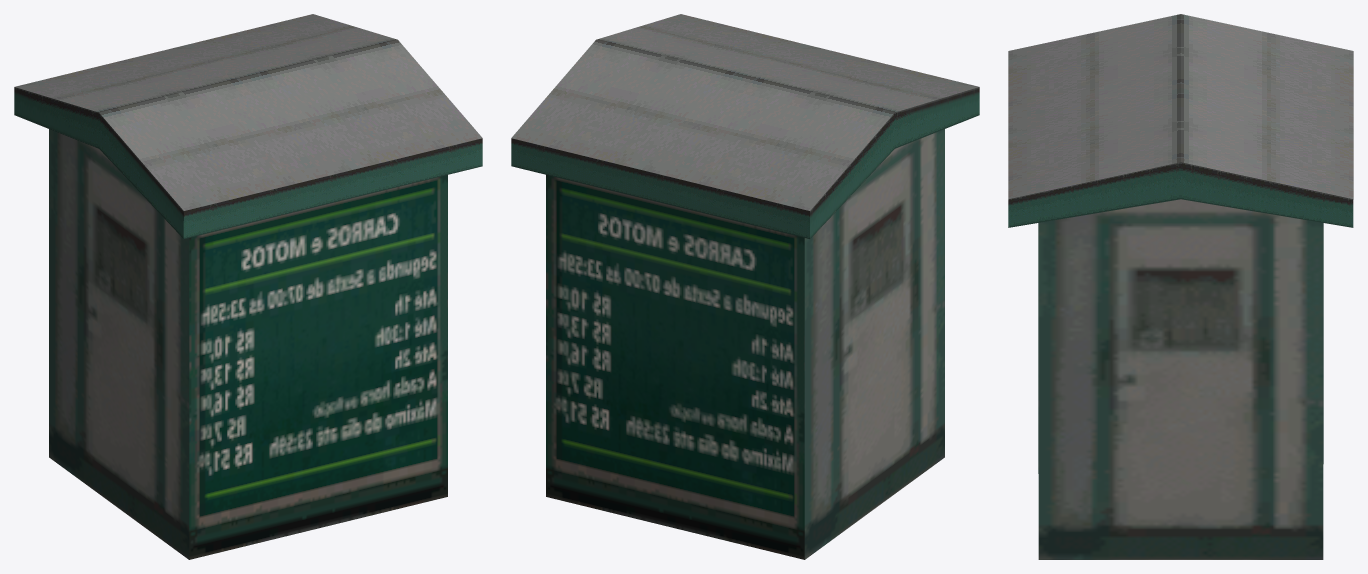
The model's file is carparkhut01_lvs.obj.
3 views of the same model, side by side, from view 1: azimuth 30°, elevation 25°; view 2: azimuth 150°, elevation 25°; view 3: azimuth 270°, elevation 25° (orthographic).
Parts seen in each view (by area): view 1: carparkhut01_lvs; view 2: carparkhut01_lvs; view 3: carparkhut01_lvs.
Part boxes in pixels (bbox=[...]): carparkhut01_lvs: bbox=[14, 14, 482, 559]; carparkhut01_lvs: bbox=[511, 14, 979, 559]; carparkhut01_lvs: bbox=[1008, 14, 1353, 559].
Bounding box in the file's own units: 2.31 × 2.97 × 2.27.
3 materials, 3 textured.
